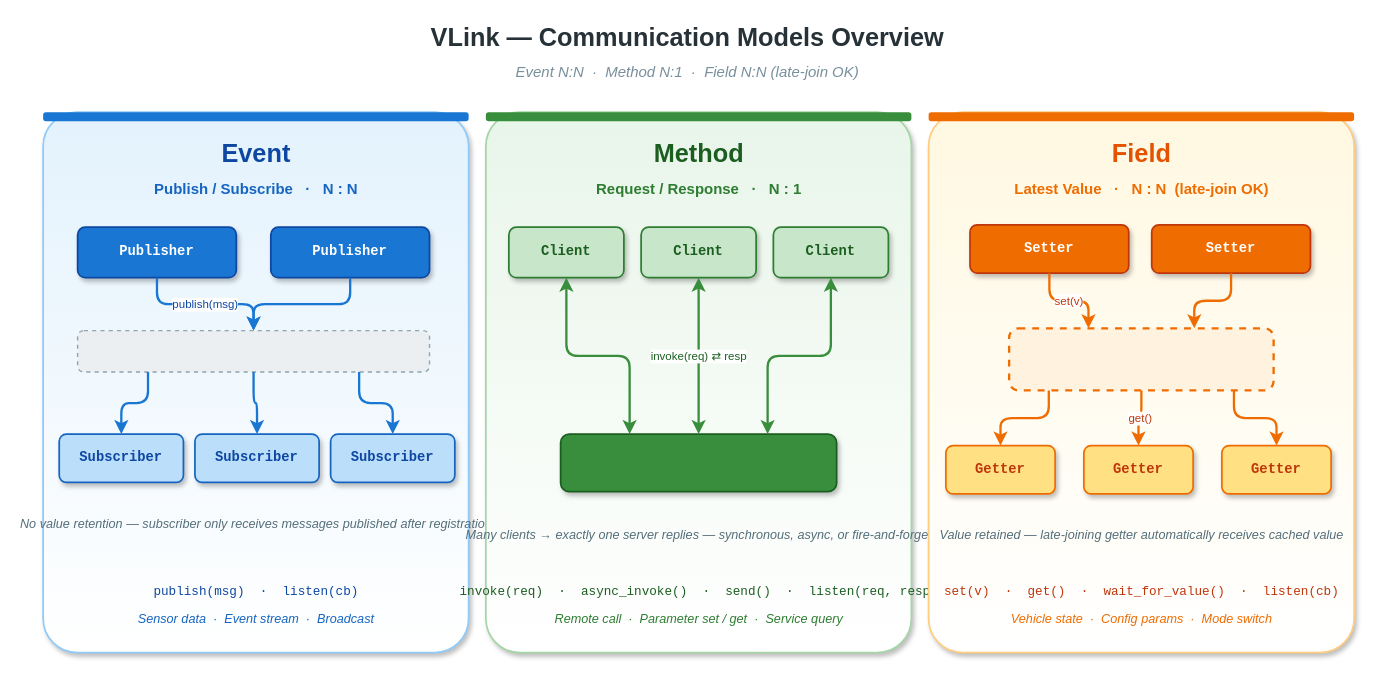
Some shapes in this 1381 by 681 pixel diagram are drawn without their labels. The centre of each missing label's shape, as x and y in pixels:
latest value cached · late-join sync: point 1140,359
Server<Req, Resp>: point 699,464
Transport (intra / shm / dds / ...): point 253,350
